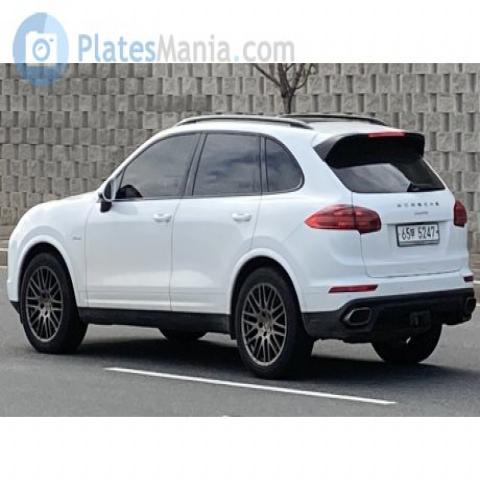LP: (388, 214, 445, 247)
